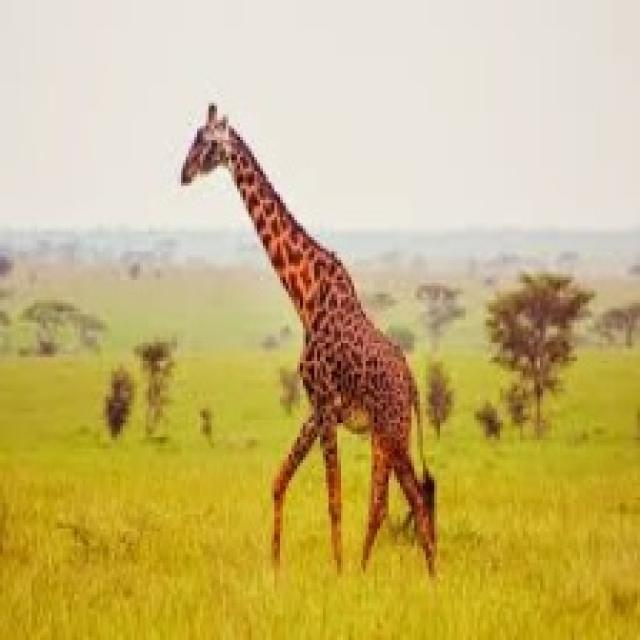animal: (150, 75, 488, 604)
